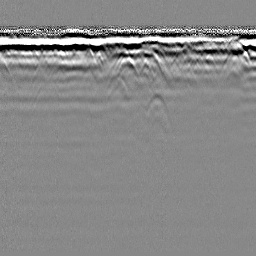cavity: (115, 54, 140, 77)
